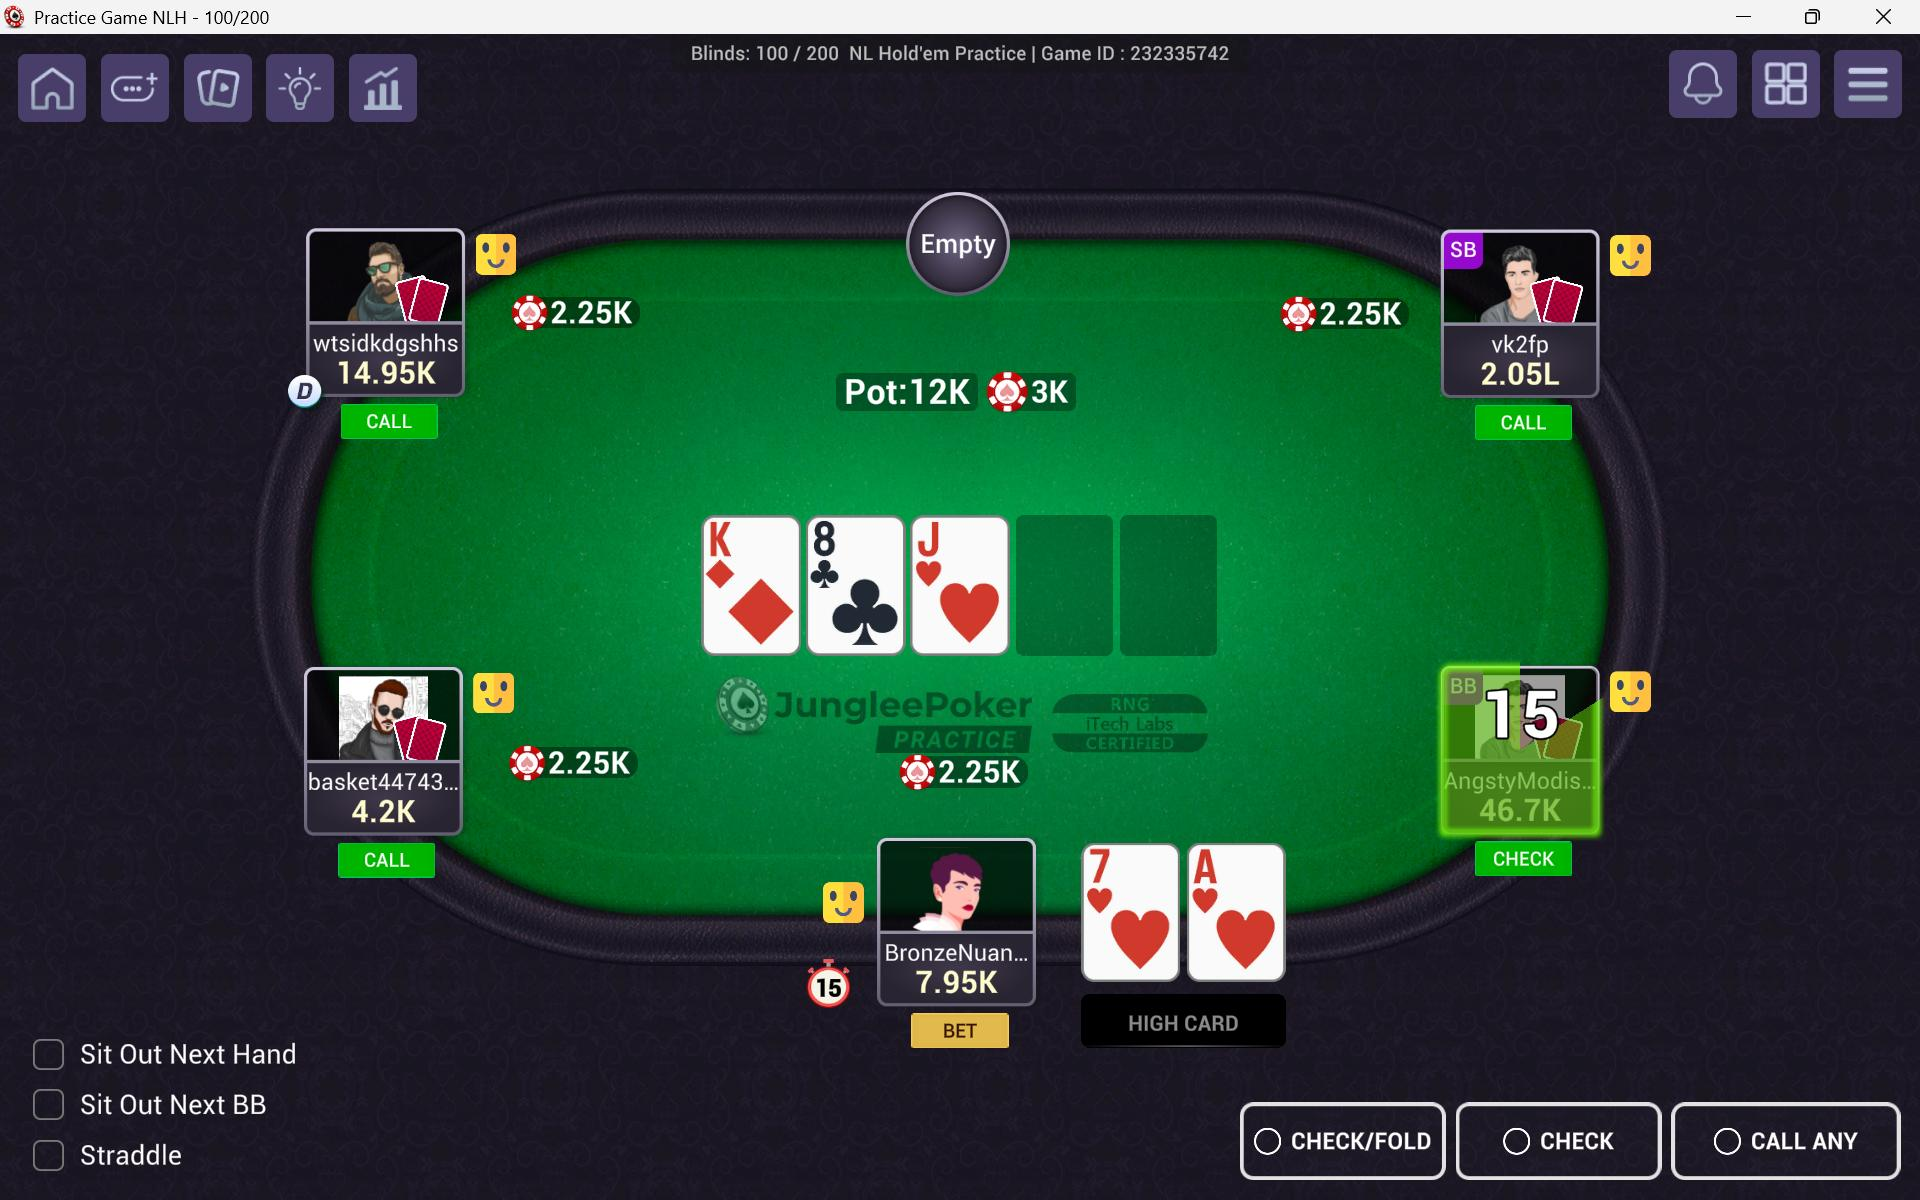card1_rank: (1088, 845, 1145, 893)
card1_suite_heart: (1100, 907, 1178, 980)
card2_rank: (1187, 841, 1243, 900)
card2_suite_heart: (1205, 890, 1286, 977)
flop1_rank: (702, 516, 767, 557)
flop1_suite_diamond: (717, 570, 795, 650)
flop2_rank: (807, 517, 860, 560)
flop2_suite_club: (817, 567, 897, 653)
flop3_rank: (910, 517, 983, 565)
flop3_suite_heart: (925, 572, 1010, 653)
my_bet: (897, 752, 1027, 792)
my_stack: (905, 968, 1012, 1008)
position_BB: (1450, 668, 1487, 708)
position_SB: (1443, 229, 1490, 270)
total_pot: (838, 371, 1078, 418)
villian1_bet: (507, 742, 647, 788)
villian1_name: (305, 765, 464, 795)
villian1_stack: (330, 798, 433, 832)
villian2_bet: (510, 293, 643, 333)
villian2_name: (305, 322, 473, 355)
villian2_stack: (328, 355, 452, 393)
villian4_bet: (1274, 294, 1415, 333)
villian4_name: (1450, 322, 1598, 358)
villian4_stack: (1469, 358, 1580, 393)
villian5_name: (1444, 758, 1595, 800)
villian5_stack: (1472, 798, 1577, 835)
